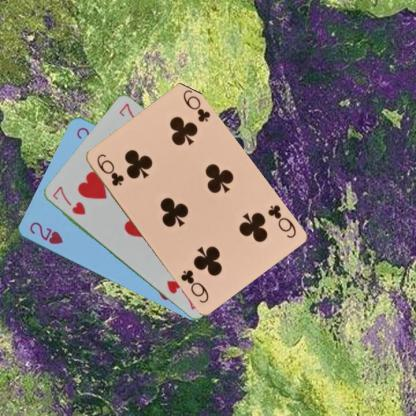2h: (27, 219, 64, 246)
6c: (264, 202, 298, 240), (94, 151, 124, 188)
7h: (49, 183, 87, 217)
